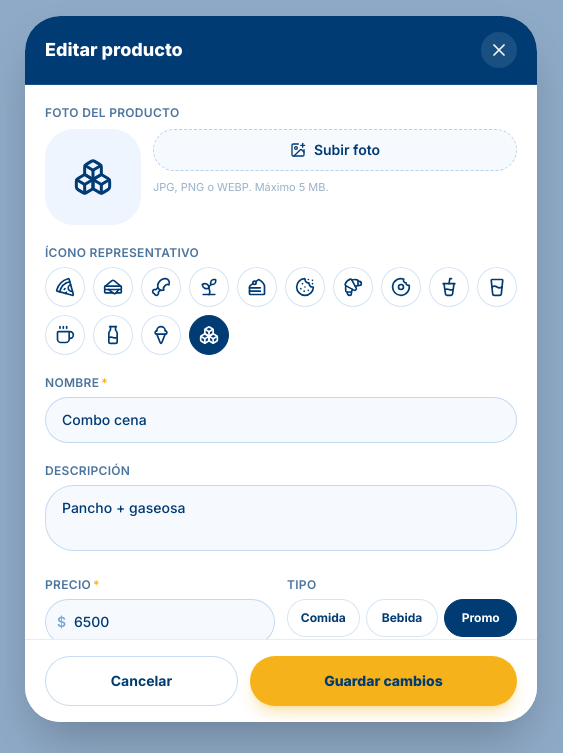
Test: ProductFormDialog — promo component editor › keeps draft visible on component save failure
Note: Click save (Guardar cambios)
Click the button "Guardar cambios" at (383, 681), box [250,656,517,706]
(page scrolled)
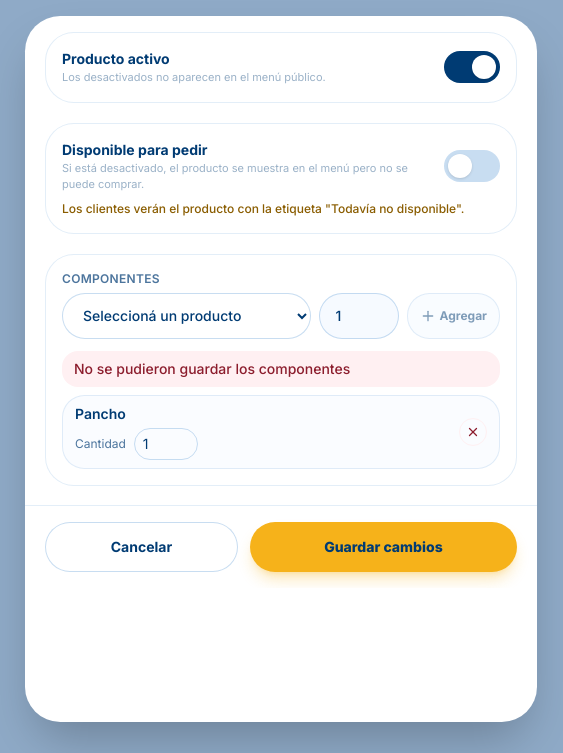
Result: the text "No se pudieron guardar los componentes" is shown at [62,351,500,387]
